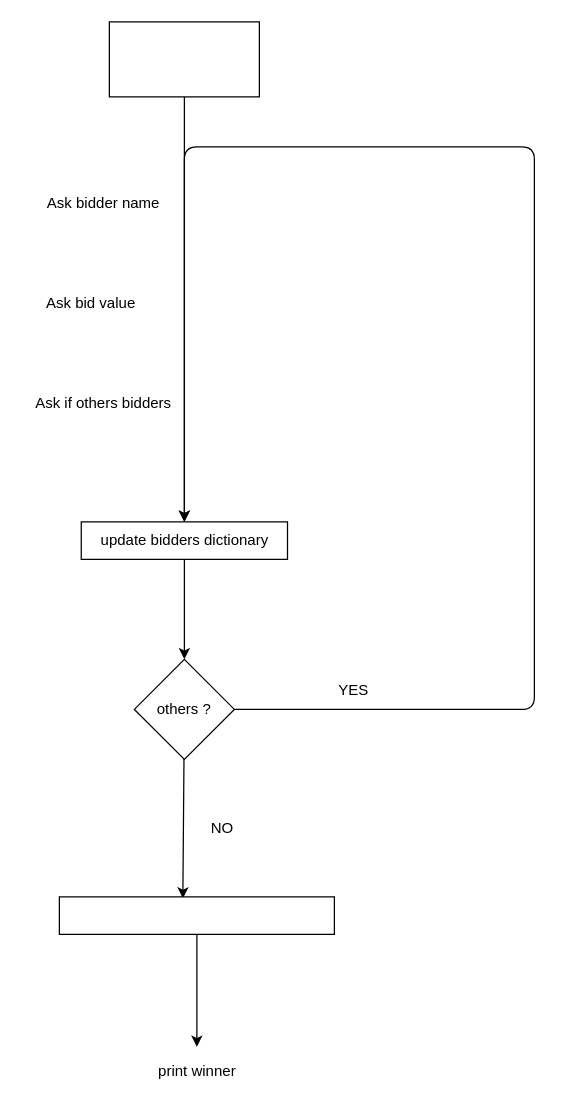
The diagram is 566 pixels wide and 1113 high, and some of its shapes have lost their labels. The shapes that lost their labels are listed below. From the top down, each one's box as (x1, y1, x2, y2) in pixels, then its label:
(108, 21, 259, 97): init bidders dictionnaries
(58, 896, 334, 934): search_max_bidder(bidder_dictionary)
